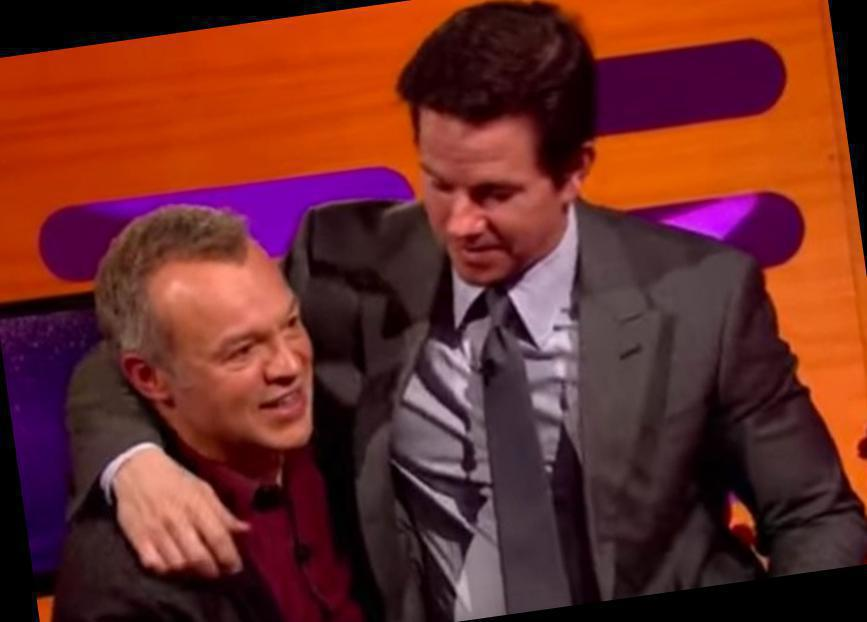Drunk: (161, 267, 318, 443), (409, 110, 560, 278)
